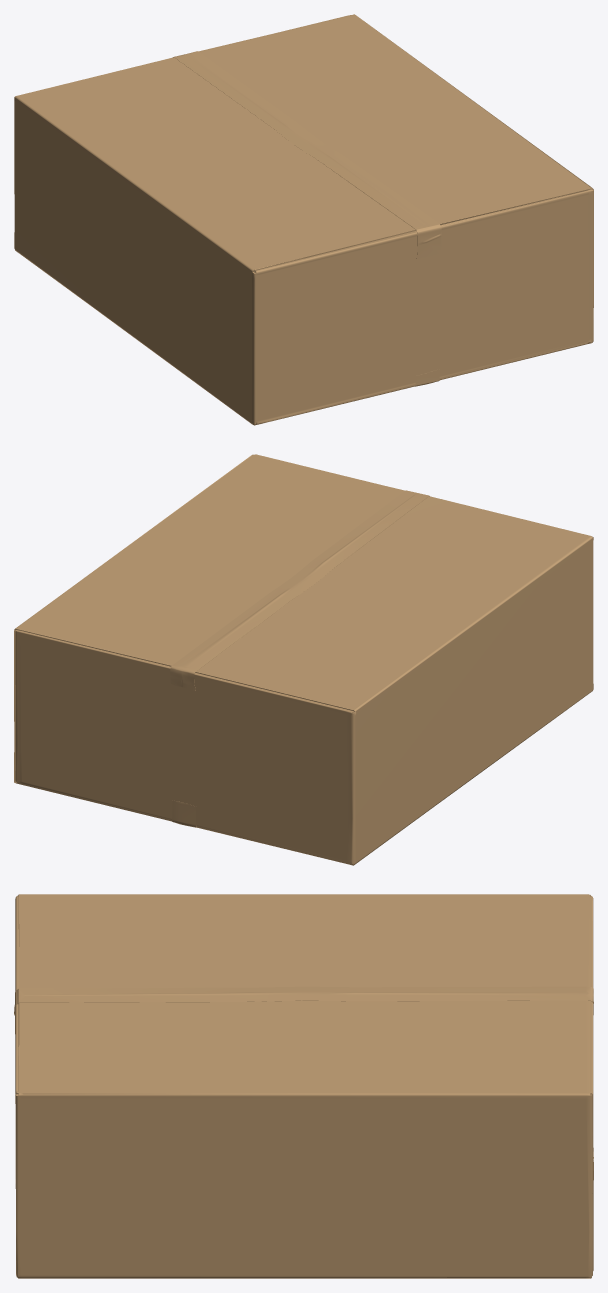
The model's file is box_flat_brown_b15.glb.
3 views of the same model, one above another, from view 1: azimuth 30°, elevation 25°; view 2: azimuth 150°, elevation 25°; view 3: azimuth 270°, elevation 25° (orthographic). The views are drawn at different scales.
Bounding box in the file's own units: 0.5124 × 0.2276 × 0.6281.
